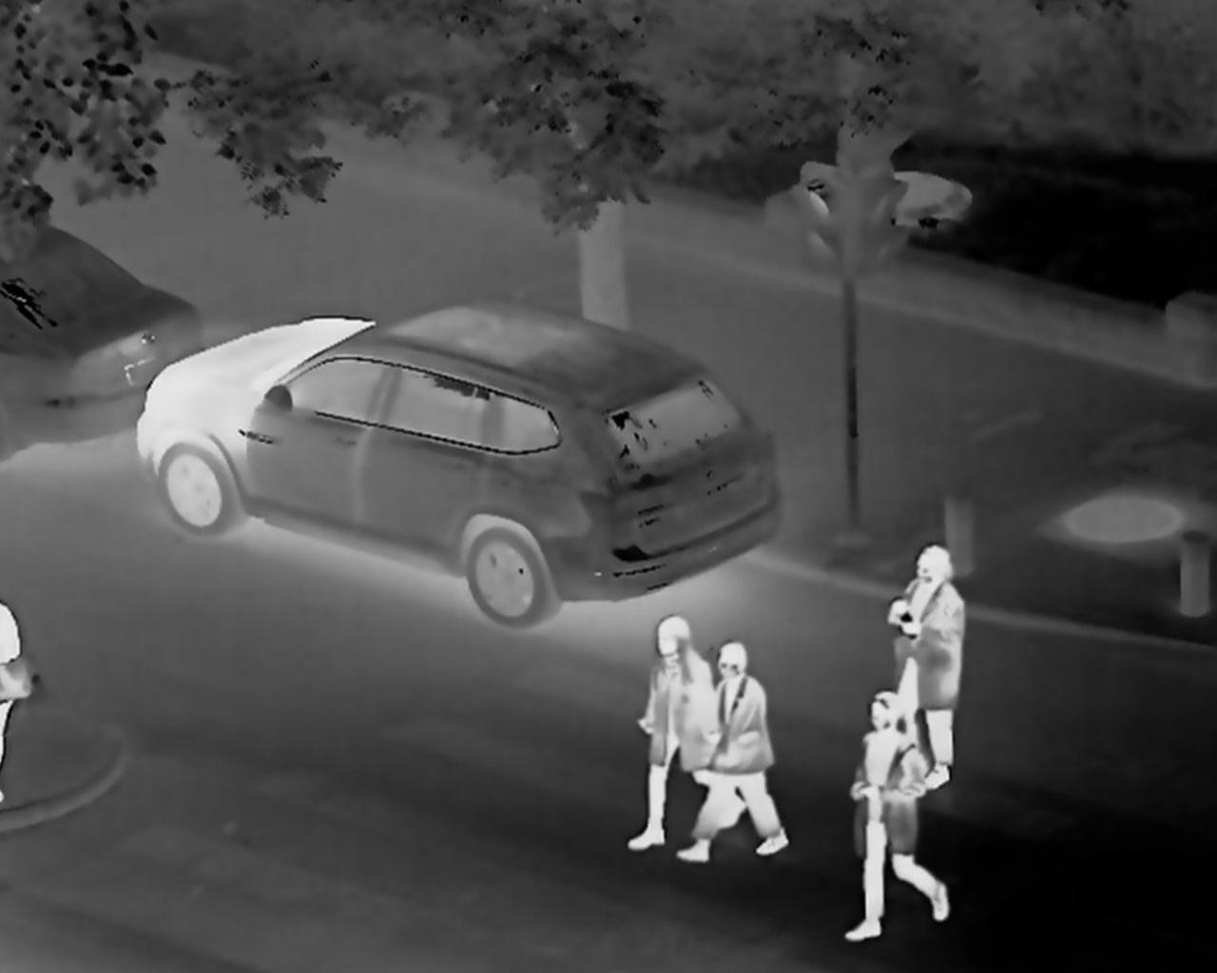person: (843, 682, 947, 942), (604, 569, 691, 834), (904, 550, 1009, 735), (694, 629, 762, 863)
